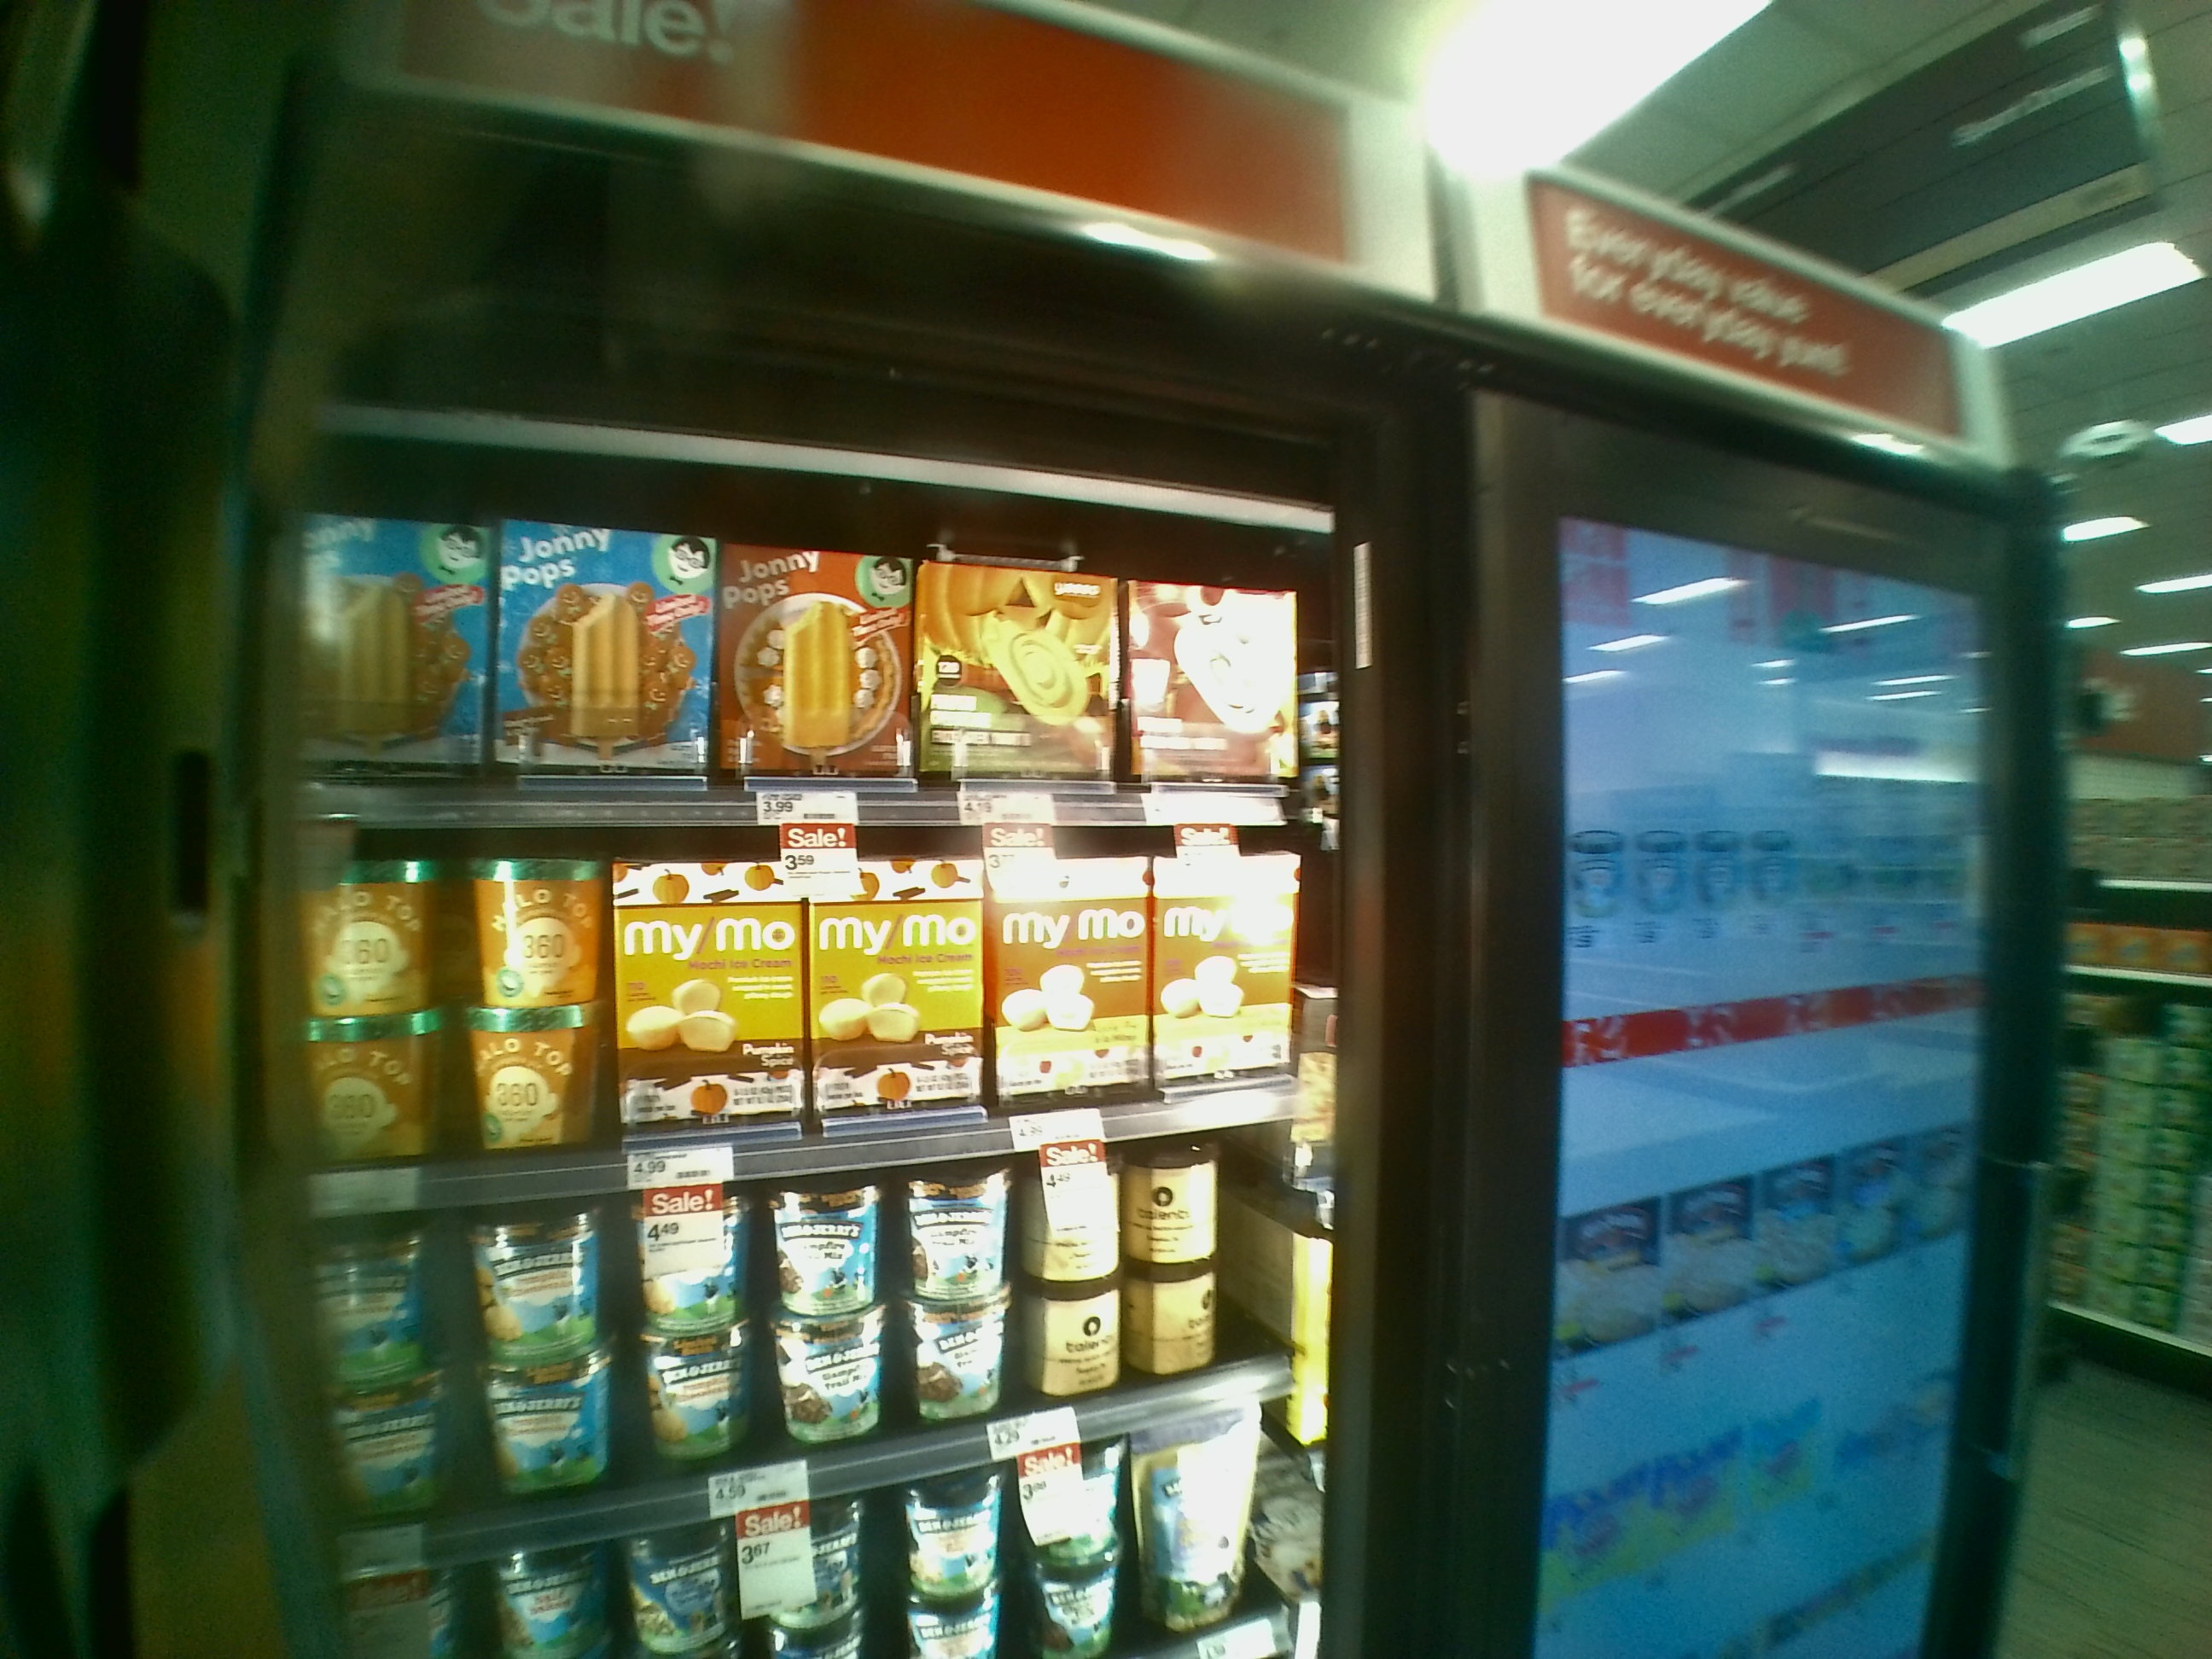shelf: (268, 462, 1353, 833), (253, 791, 1336, 1148), (261, 1182, 1336, 1438)
